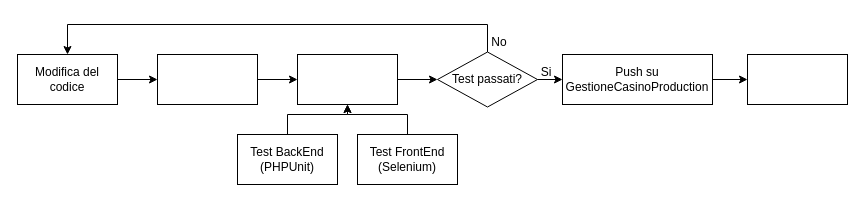
The diagram is 865 pixels wide and 202 high, and some of its shapes have lost their labels. The centre of each missing label's shape, as x and y in pixels:
Modifica della pagina: (797,79)
Push su GestioneCasino: (207,79)
Test di Jenkins: (347,79)
